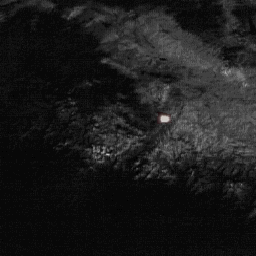Target: (159, 112, 172, 124)
